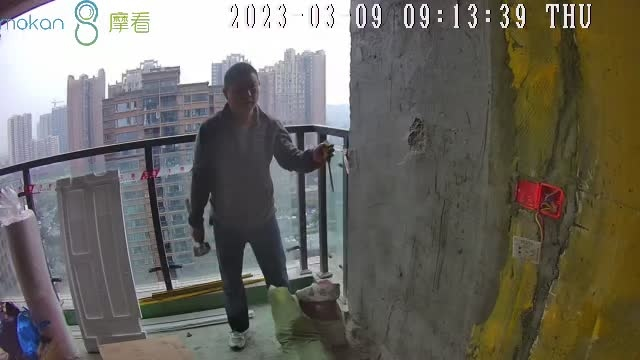people: (192, 63, 329, 349)
window: (2, 16, 352, 311)
